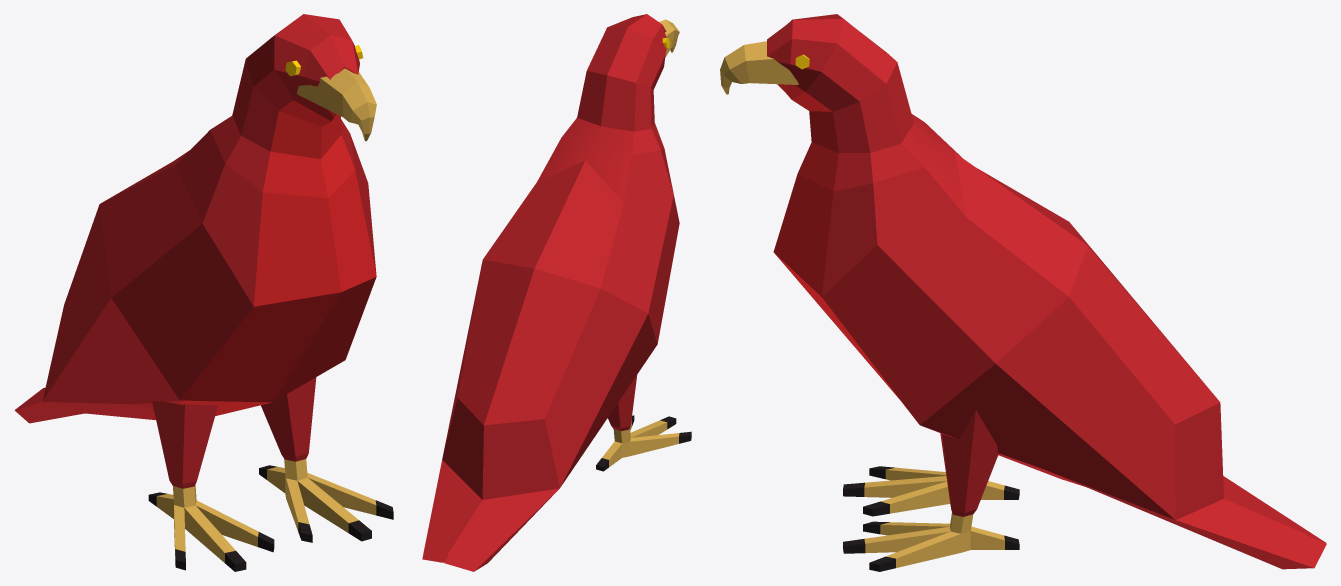
The model's file is Fawkes.glb.
The picture shows the model from 3 angles, left to right: view 1: azimuth 30°, elevation 25°; view 2: azimuth 150°, elevation 25°; view 3: azimuth 270°, elevation 25°; orthographic projection. The views are drawn at different scales.
Visible parts, largest first — view 1: Fawkes; view 2: Fawkes; view 3: Fawkes.
Part boxes in pixels (bbox=[...]): Fawkes: bbox=[14, 14, 393, 571]; Fawkes: bbox=[422, 14, 691, 571]; Fawkes: bbox=[720, 14, 1326, 571].
Size of the model in its own units: 0.4786 by 1.18 by 1.22.
4 materials, 1 textured.
